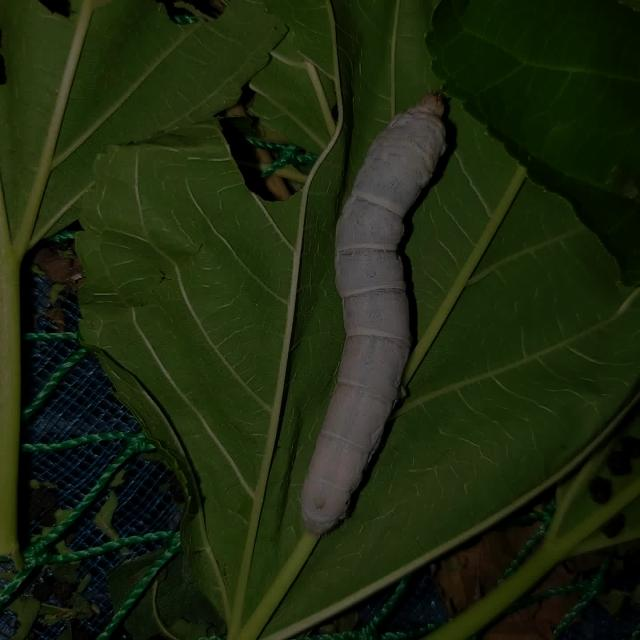Healthy: (288, 94, 468, 534)
